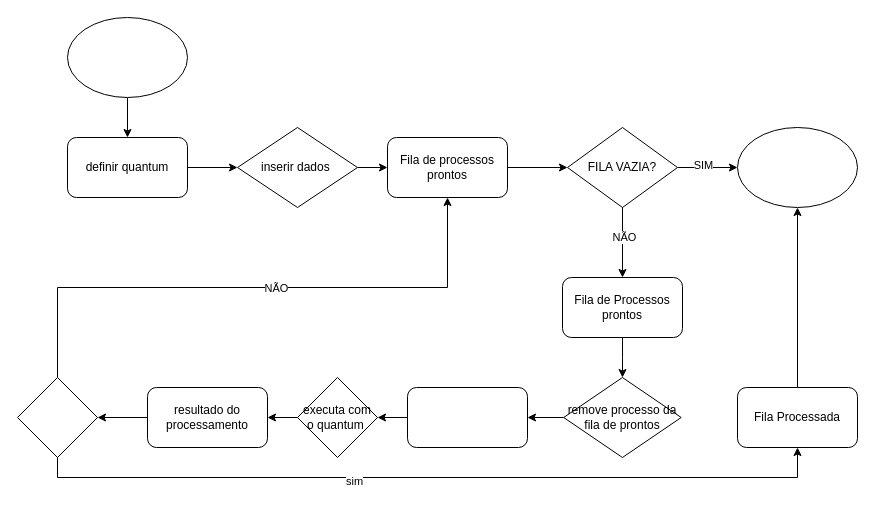
The diagram is 875 pixels wide and 505 high, and some of its shapes have lost their labels. Here are the shapes that lost their labels. From the top down, the centre of each, then its label:
At (127,57): "START".
At (797,167): "ENCERRAR".
At (57,417): "processo concluiu ?".
At (467,417): "Processo atual".
